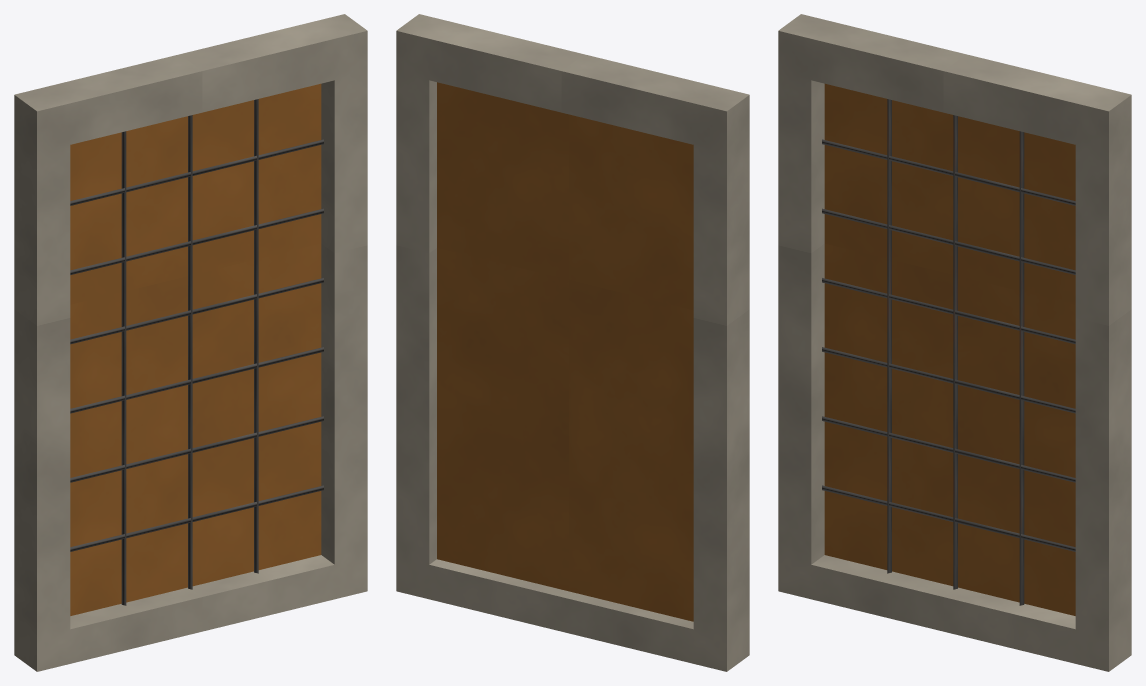
The model's file is Window_Leaded_2.gltf.
3 renders of one model, left to right at view 1: azimuth 30°, elevation 25°; view 2: azimuth 150°, elevation 25°; view 3: azimuth 330°, elevation 25°, orthographic.
Visible parts, largest first — view 1: Window_Leaded_2; view 2: Window_Leaded_2; view 3: Window_Leaded_2.
Part boxes in pixels (x1,y1,x2,y2): Window_Leaded_2: (14, 14, 367, 671); Window_Leaded_2: (396, 14, 749, 671); Window_Leaded_2: (778, 14, 1131, 671).
Bounding box in the file's own units: 1 × 1.62 × 0.12.
Materials: 3 (3 with a texture image).
